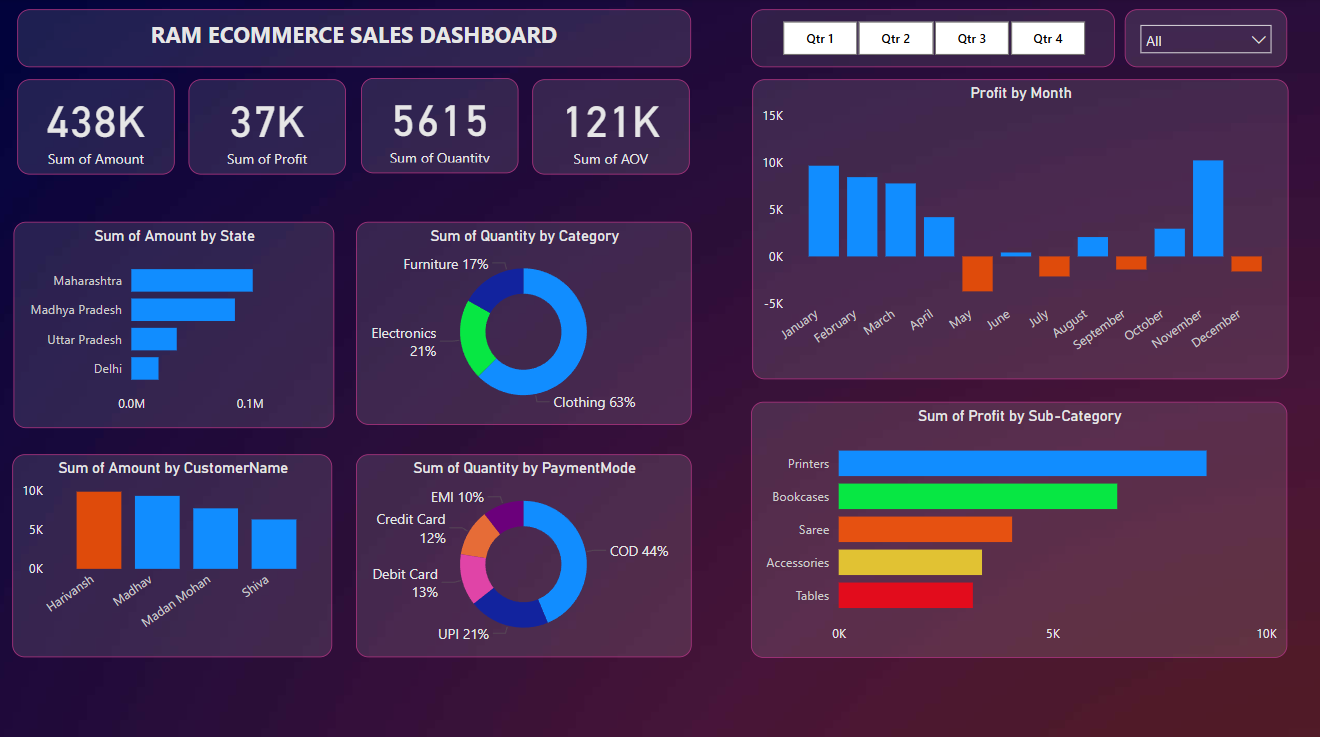

The page's visual inventory and layout, read from the dashboard file:
{"tool":"powerbi","page":{"name":"Page 1","canvas":[1280,720],"ordinal":0},"visuals":[{"type":"textbox","box":[20.6,11,650.4,56.3],"z":0},{"type":"columnChart","title":"Profit by Month","fields":{"Category":["Orders.Order Date.Variation.Date Hierarchy.Month"],"Y":["Details.Profit"]},"box":[730,78.2,517.3,289.5],"z":1000},{"type":"barChart","fields":{"Category":["Details.Sub-Category"],"Y":["Details.Profit"]},"box":[728.6,389.7,517.3,247],"z":2000},{"type":"donutChart","fields":{"Category":["Details.Category"],"Y":["Details.Quantity"]},"box":[347.2,215.4,323.8,196.2],"z":3000},{"type":"donutChart","fields":{"Y":["Details.Quantity"],"Category":["Details.PaymentMode"]},"box":[347.2,440.5,323.8,196.2],"z":4000},{"type":"card","fields":{"Values":["Details.Amount"]},"box":[20.9,78.2,152.3,91.9],"z":5000},{"type":"card","fields":{"Values":["Details.Profit"]},"box":[185.5,78.5,152.3,91.9],"z":6000},{"type":"card","fields":{"Values":["Details.Quantity"]},"box":[352.7,77.7,152.3,91.9],"z":7000},{"type":"card","fields":{"Values":["Details.AOV"]},"box":[518.1,78.2,152.3,91.9],"z":8000},{"type":"barChart","fields":{"Category":["Orders.State"],"Y":["Details.Amount"]},"box":[16.5,215.4,309.3,199],"z":9000},{"type":"columnChart","fields":{"Category":["Orders.CustomerName"],"Y":["Details.Amount"]},"box":[16,440,309,196],"z":10000},{"type":"slicer","fields":{"Values":["Orders.Order Date.Variation.Date Hierarchy.Quarter"]},"box":[728.6,11,351.3,56.3],"z":11000},{"type":"slicer","fields":{"Values":["Orders.State"]},"box":[1089.5,11,156.4,56.3],"z":12000}]}

Visuals, with their boxes in screenshot pixels (x1, y1, x2, y2), scaled from the page's 1280x720 canvas onto the 1320x737 screenshot:
textbox: [x1=21, y1=11, x2=692, y2=69]
"Profit by Month" columnChart: [x1=753, y1=80, x2=1286, y2=376]
barChart - Details.Sub-Category x Details.Profit: [x1=751, y1=399, x2=1285, y2=652]
donutChart - Details.Category x Details.Quantity: [x1=358, y1=220, x2=692, y2=421]
donutChart - Details.Quantity x Details.PaymentMode: [x1=358, y1=451, x2=692, y2=652]
card - Details.Amount: [x1=22, y1=80, x2=179, y2=174]
card - Details.Profit: [x1=191, y1=80, x2=348, y2=174]
card - Details.Quantity: [x1=364, y1=80, x2=521, y2=174]
card - Details.AOV: [x1=534, y1=80, x2=691, y2=174]
barChart - Orders.State x Details.Amount: [x1=17, y1=220, x2=336, y2=424]
columnChart - Orders.CustomerName x Details.Amount: [x1=16, y1=450, x2=335, y2=651]
slicer - Orders.Order Date.Variation.Date Hierarchy.Quarter: [x1=751, y1=11, x2=1114, y2=69]
slicer - Orders.State: [x1=1124, y1=11, x2=1285, y2=69]
